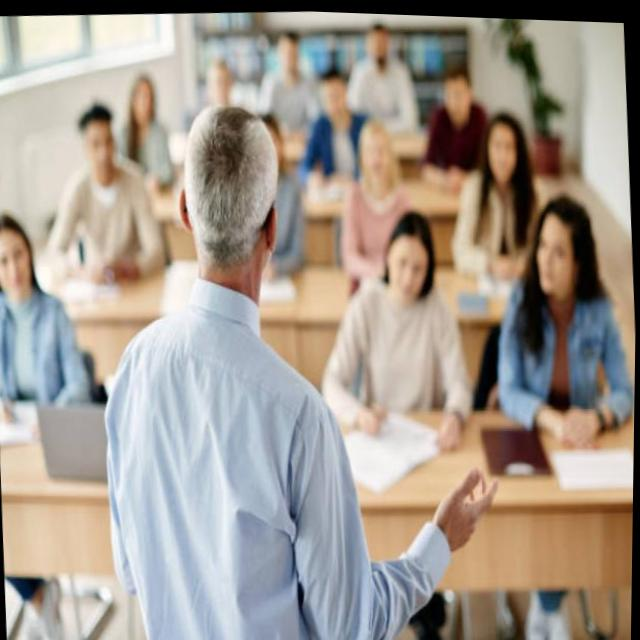no helmet: (149, 56, 314, 340)
